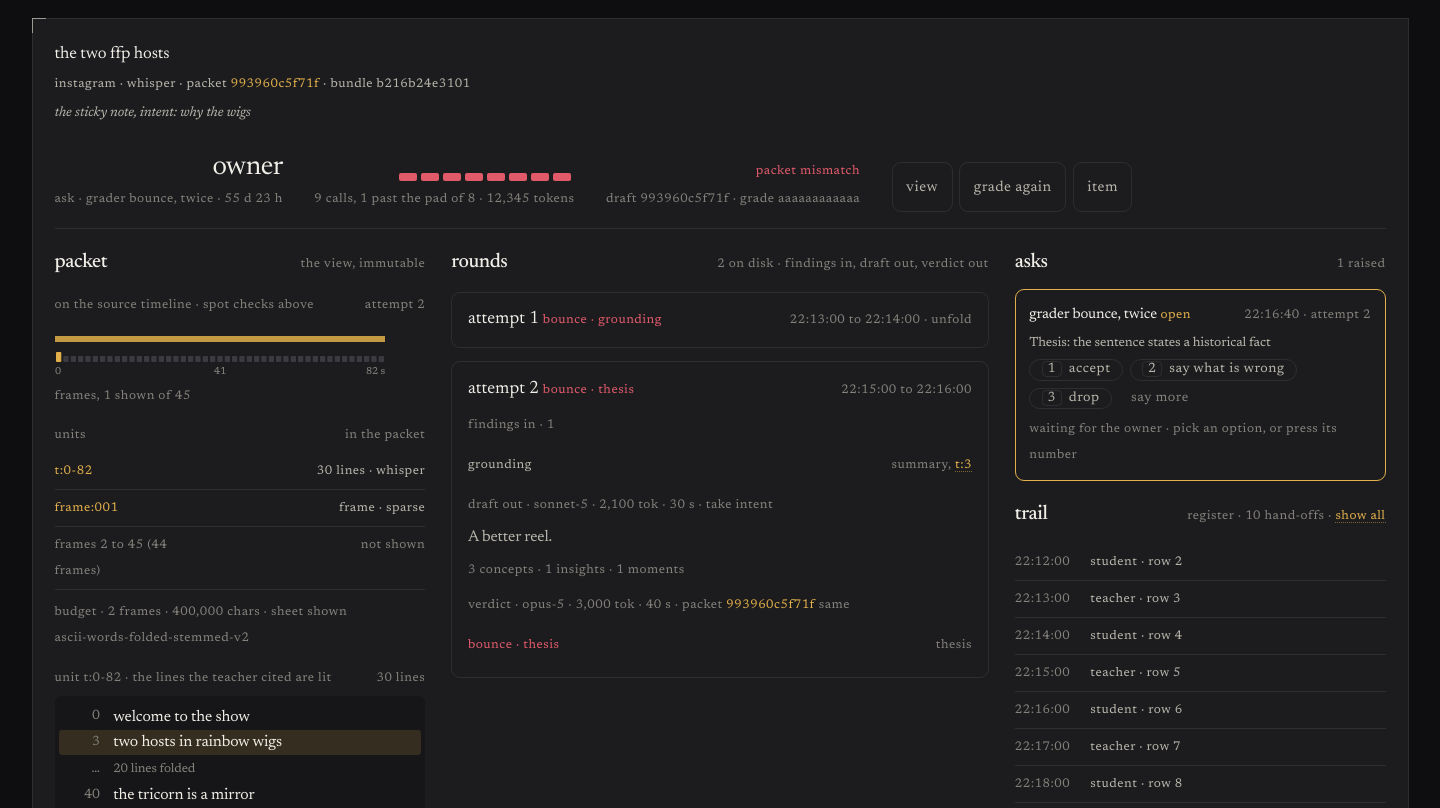
Test: the latest round is open and earlier rounds fold to one line
Expected: the text "A better reel." is shown, [468,529,552,545]
Click the button "attempt 1 bounce · grounding 22:13:00 to 22:14:00 · unfold": [498, 319] box [468,306,972,333]
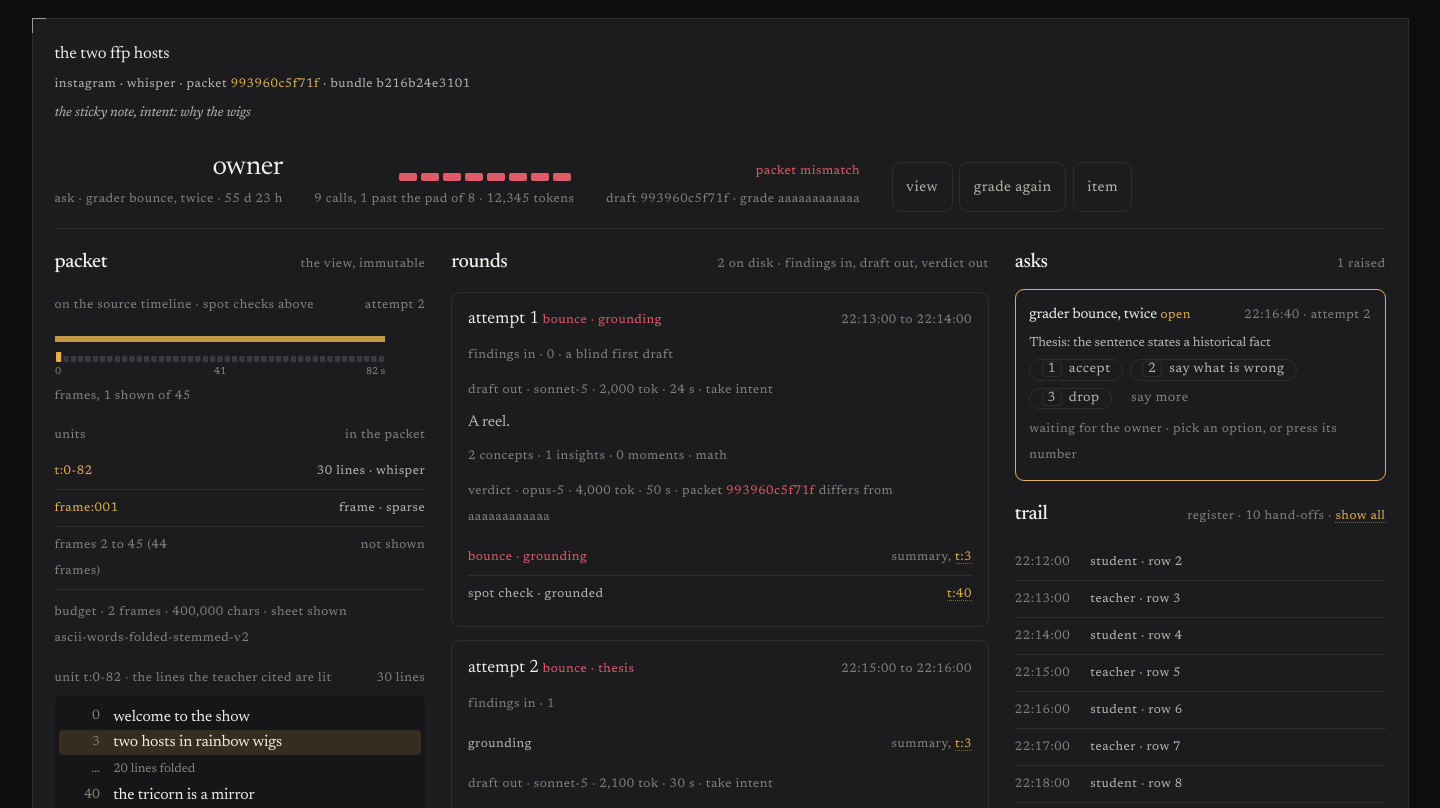
Result: the text "differs from aaaaaaaaaaaa" is shown at [468,485,893,523]
